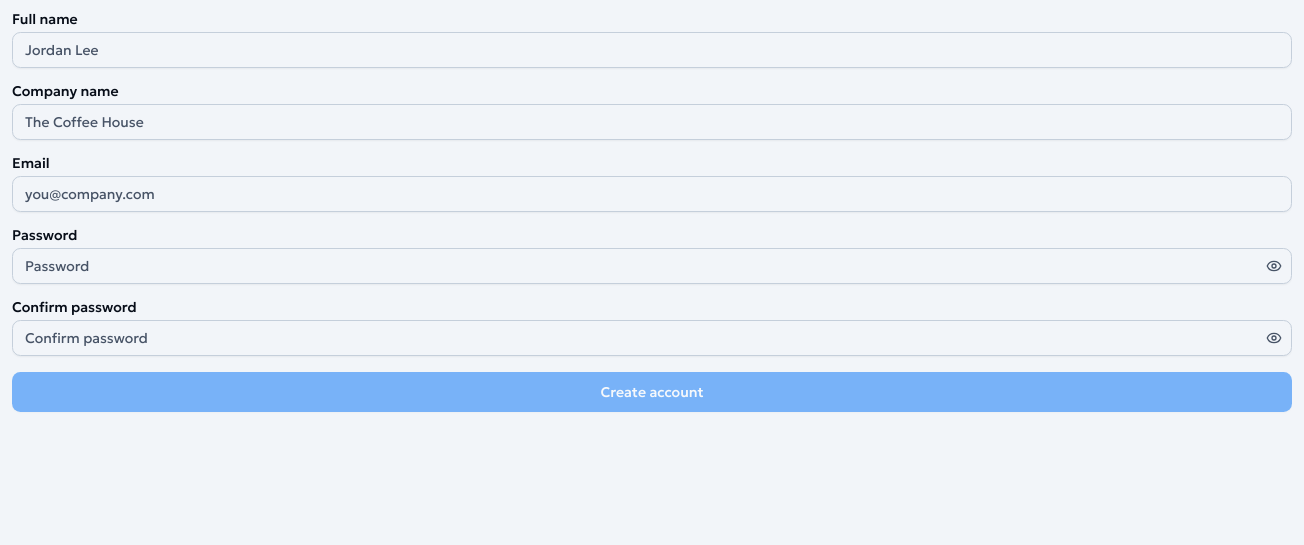
Test: CreateAccountForm › shows the live requirements checklist for an unmet password, after blur
Type "short" into the password field labelled "Password".
click(652, 266); type("short")  # box left=12, top=248, right=1292, bottom=284
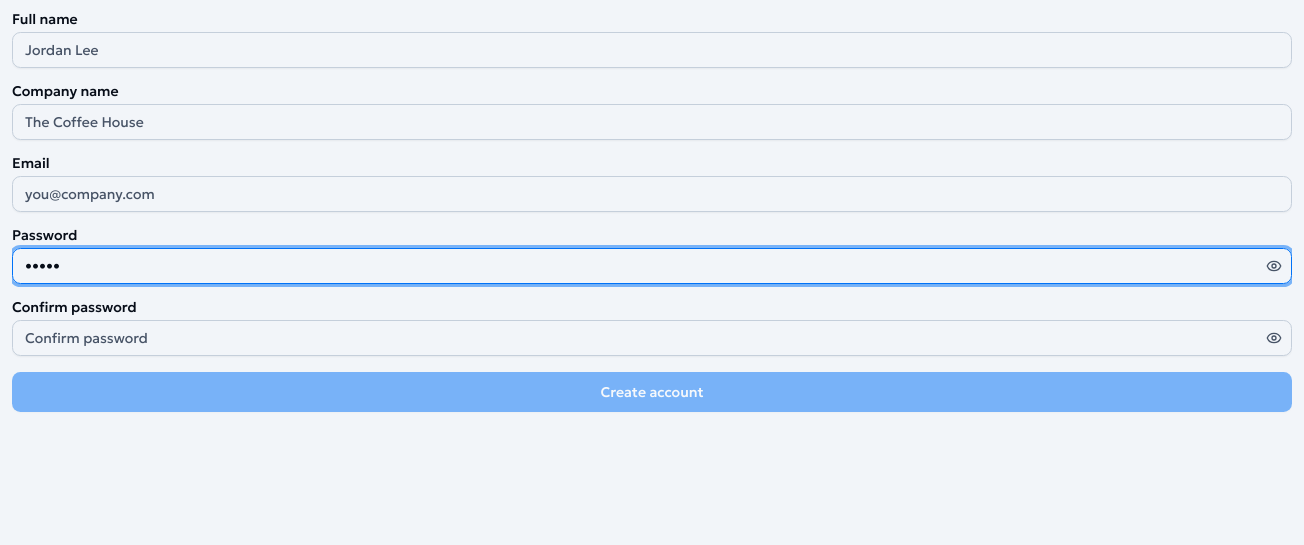
Press Tab
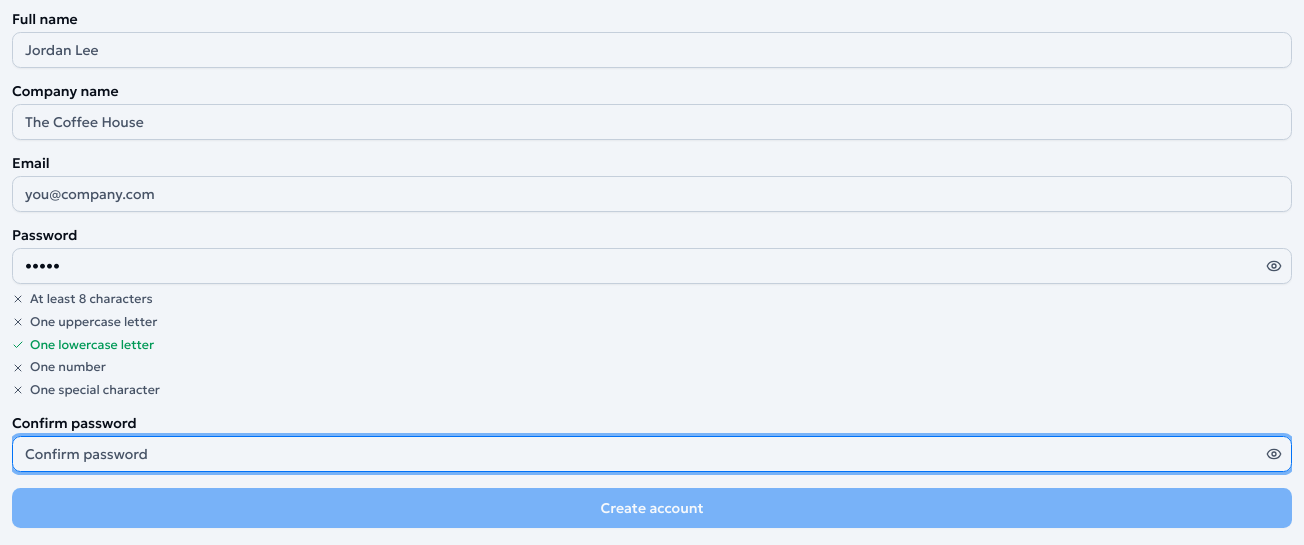
Now the list item "At least 8 characters" is shown, box left=12, top=291, right=153, bottom=306
